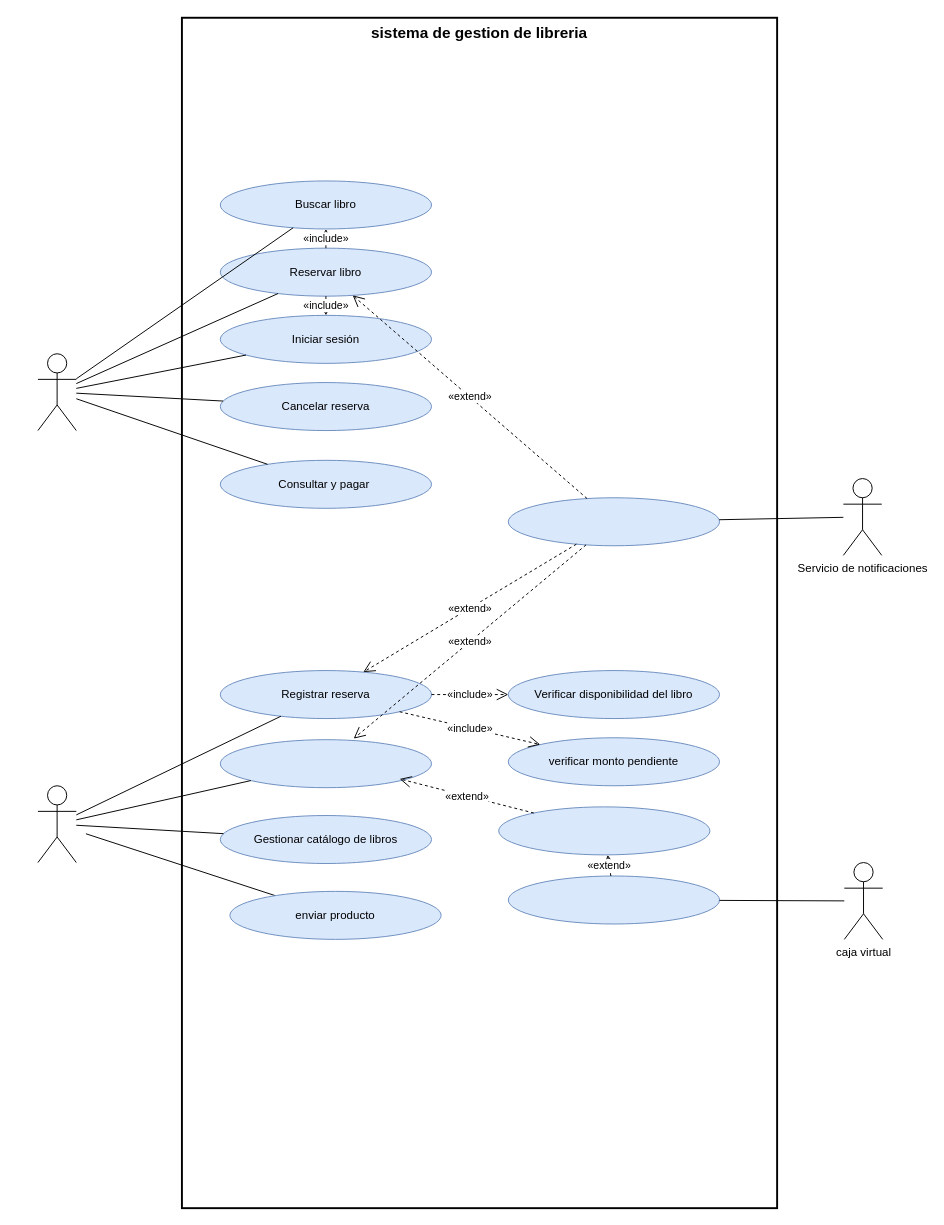
This 944x1225 diagram has some shape labels left out. Each missing label, with the centre of its shape:
"calcular precio a pagar" belongs at point (604, 830).
"encargado" belongs at point (56, 824).
"Enviar notificación" belongs at point (613, 521).
"Gestionar reservas" belongs at point (325, 763).
"Pagar producto" belongs at point (613, 899).
"Usuario / Lector" belongs at point (56, 392).
